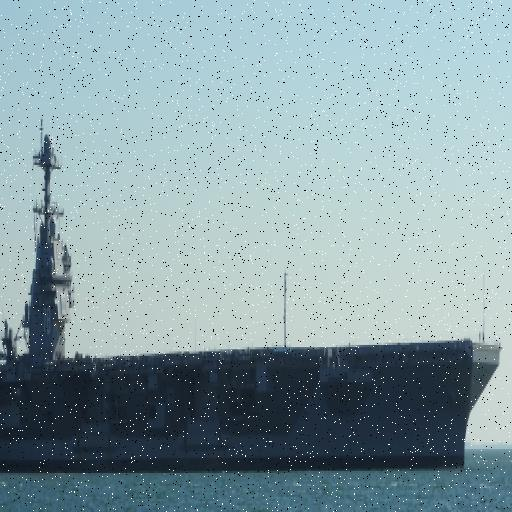Portanaves: (1, 84, 506, 481)
